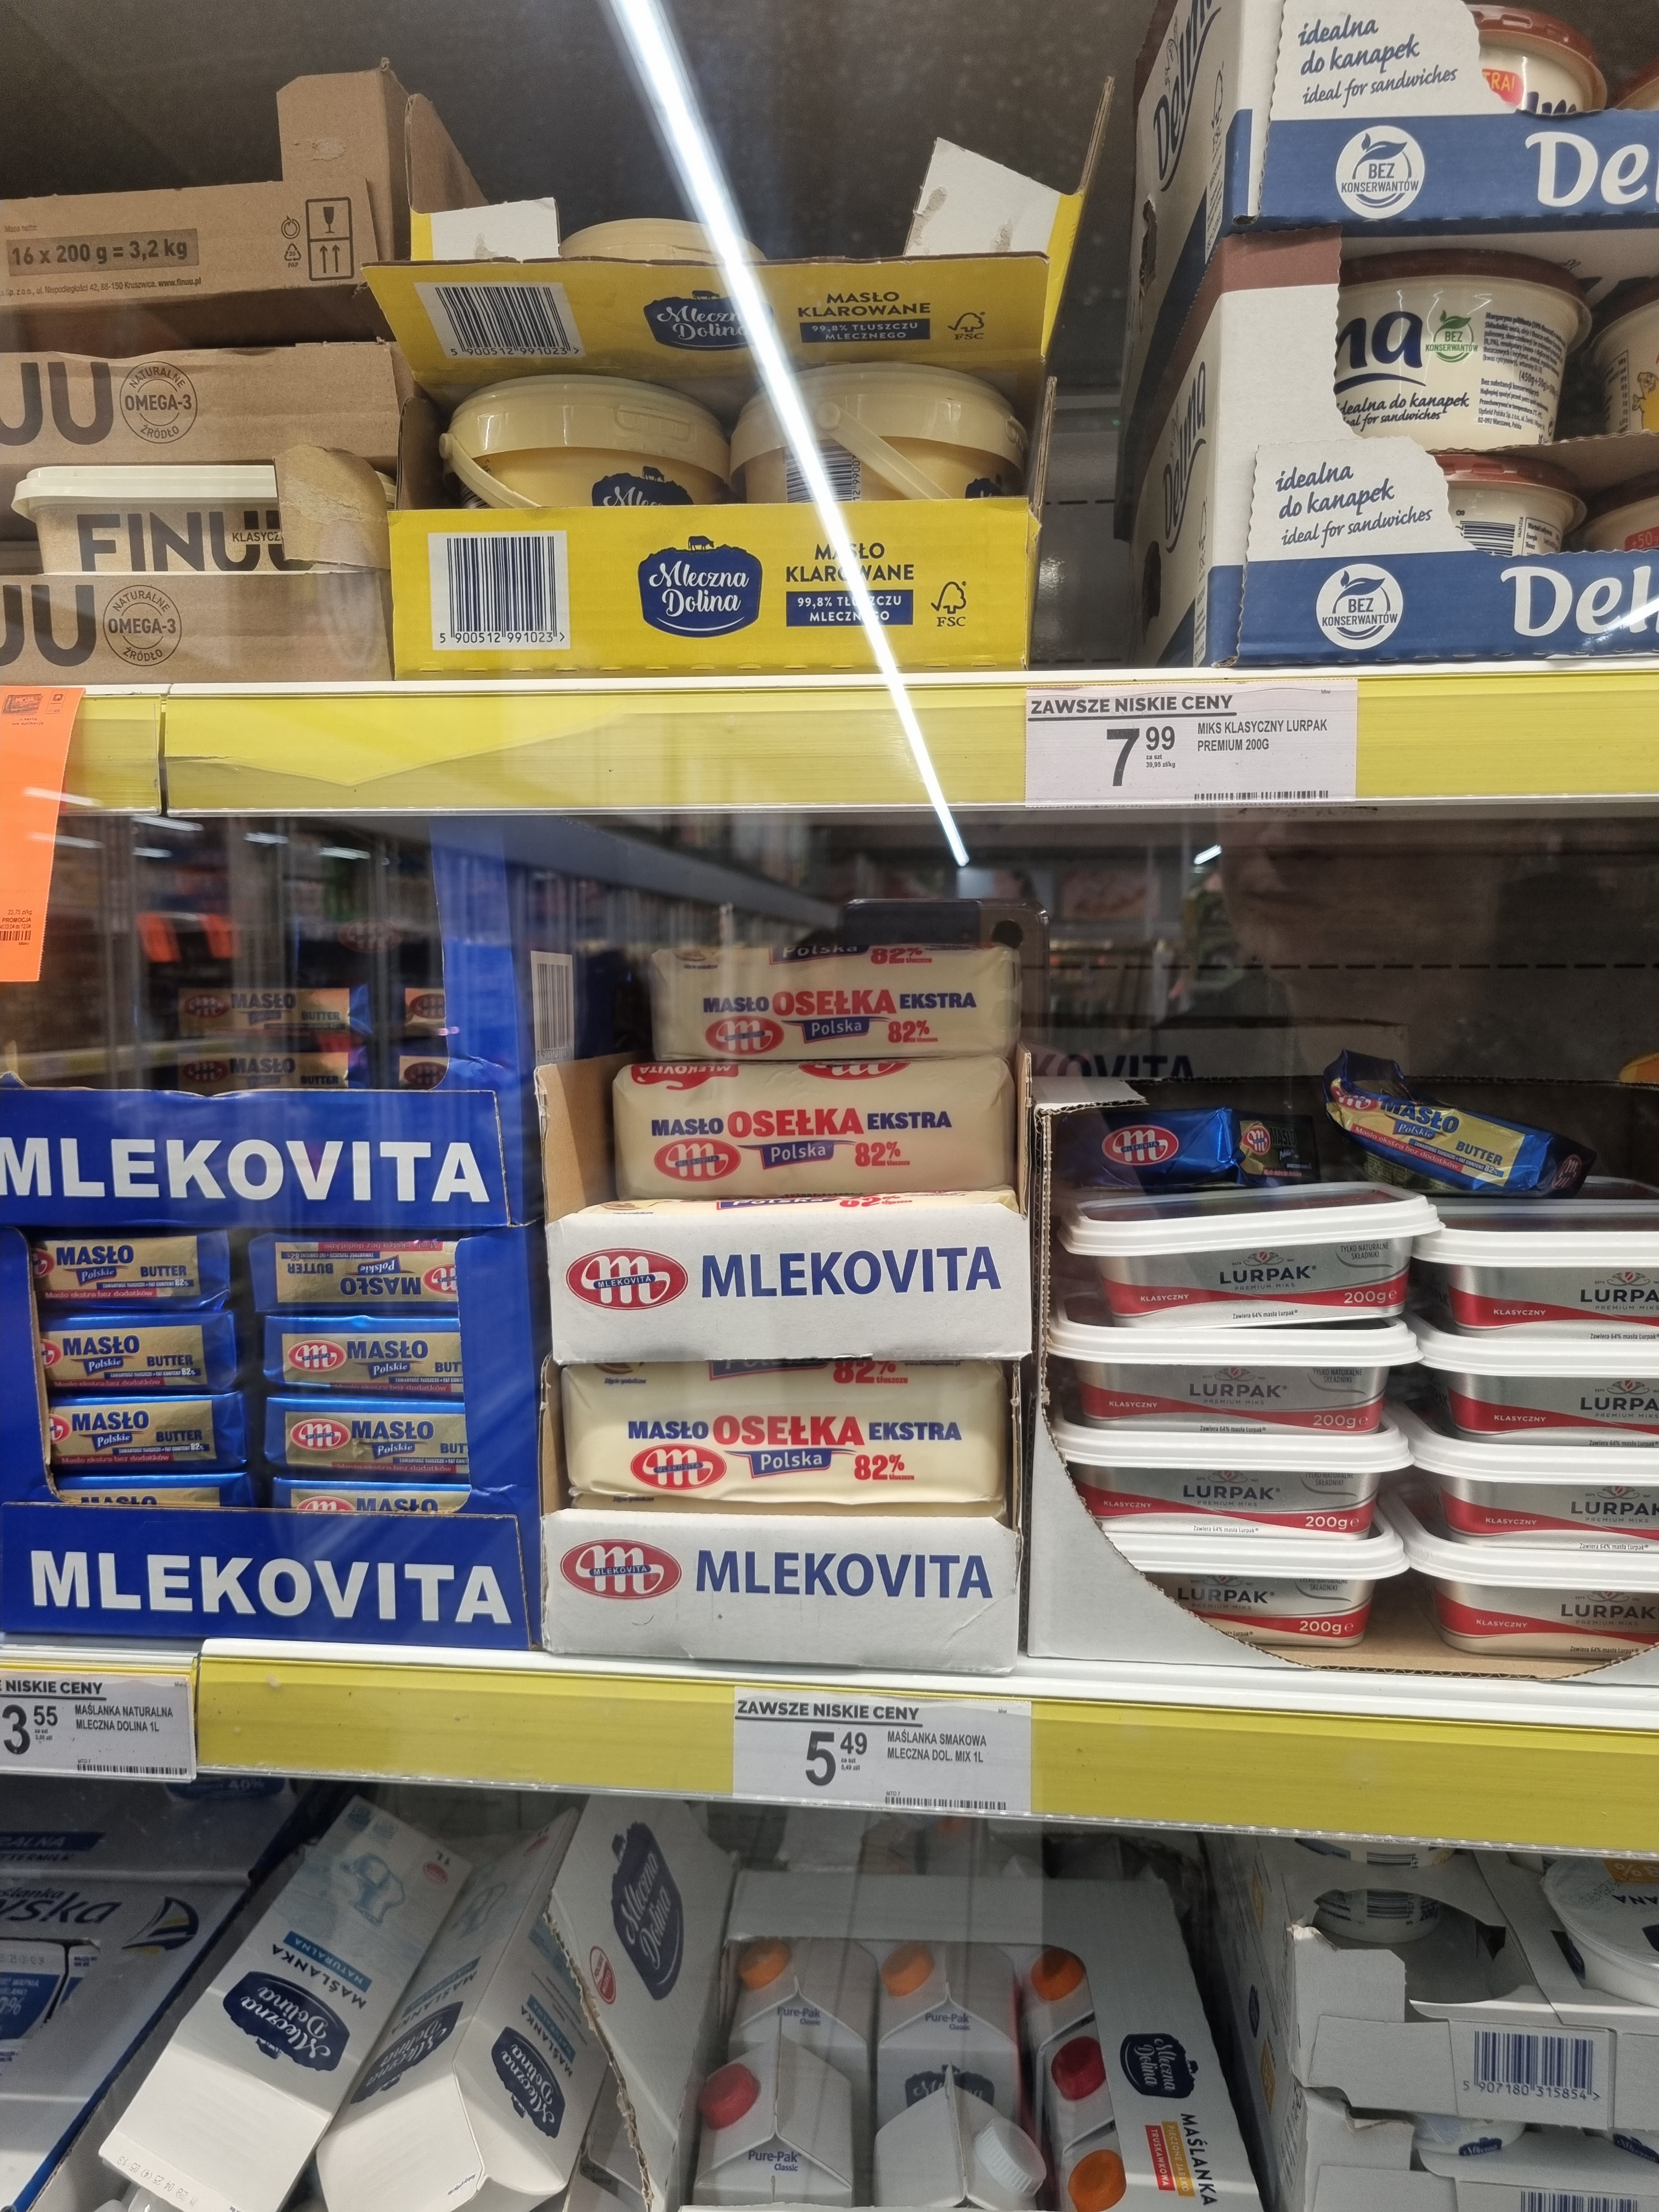Butter: (1335, 1071, 1582, 1200), (263, 1312, 488, 1406), (21, 1392, 263, 1477), (258, 1397, 504, 1479), (251, 1224, 490, 1306), (1053, 1106, 1302, 1183), (21, 1231, 227, 1320), (19, 1317, 246, 1393), (274, 1477, 497, 1536), (38, 1465, 258, 1521)
